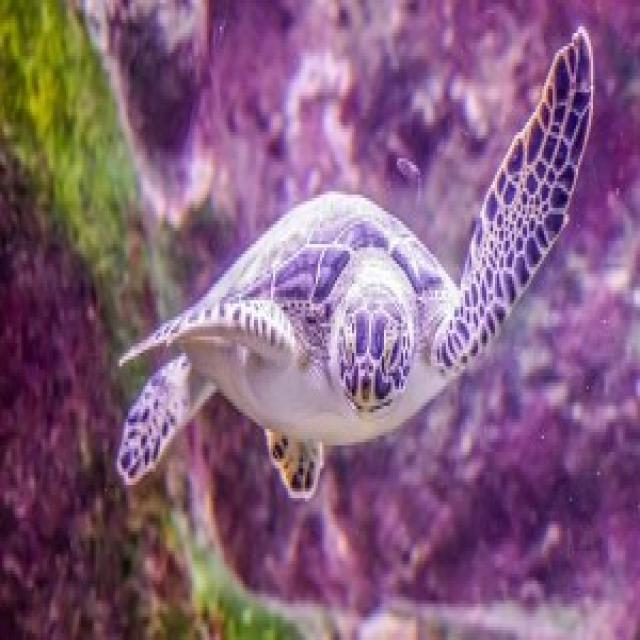Sea turtle: (97, 18, 622, 538)
